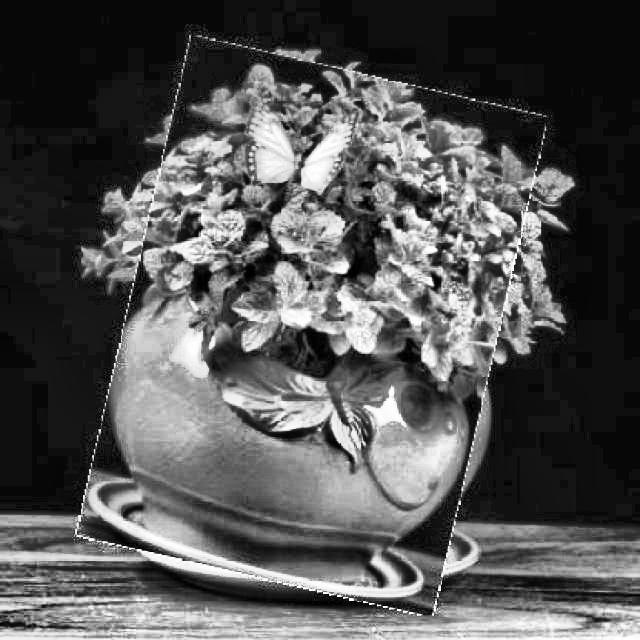plants: (102, 52, 521, 600)
